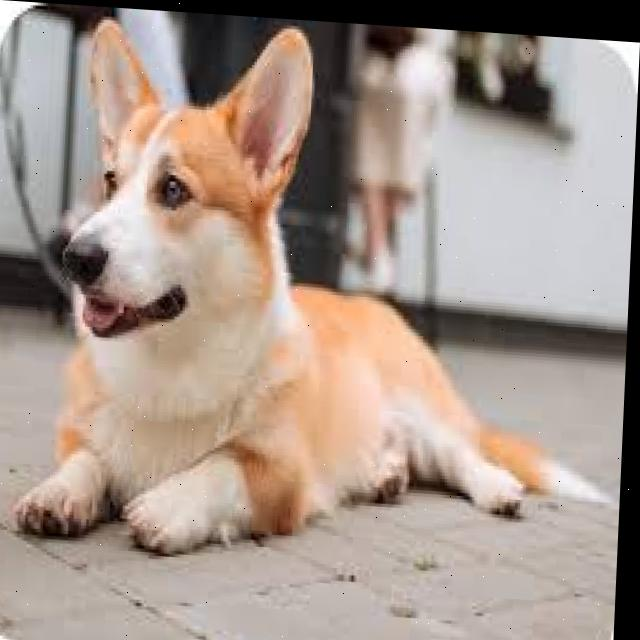CORGI: (11, 2, 558, 589)
